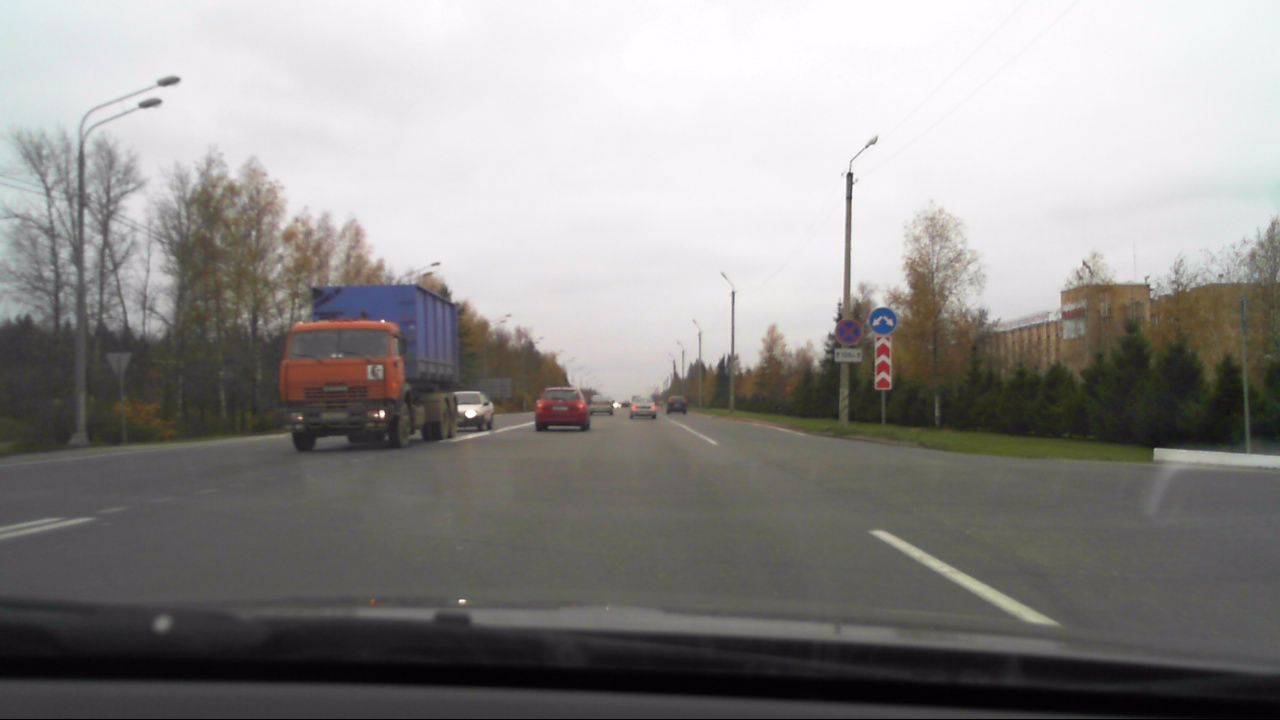No Parking: (835, 318, 862, 346)
